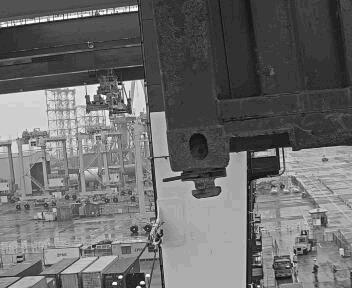twist_lock_1: (146, 169, 204, 207)
